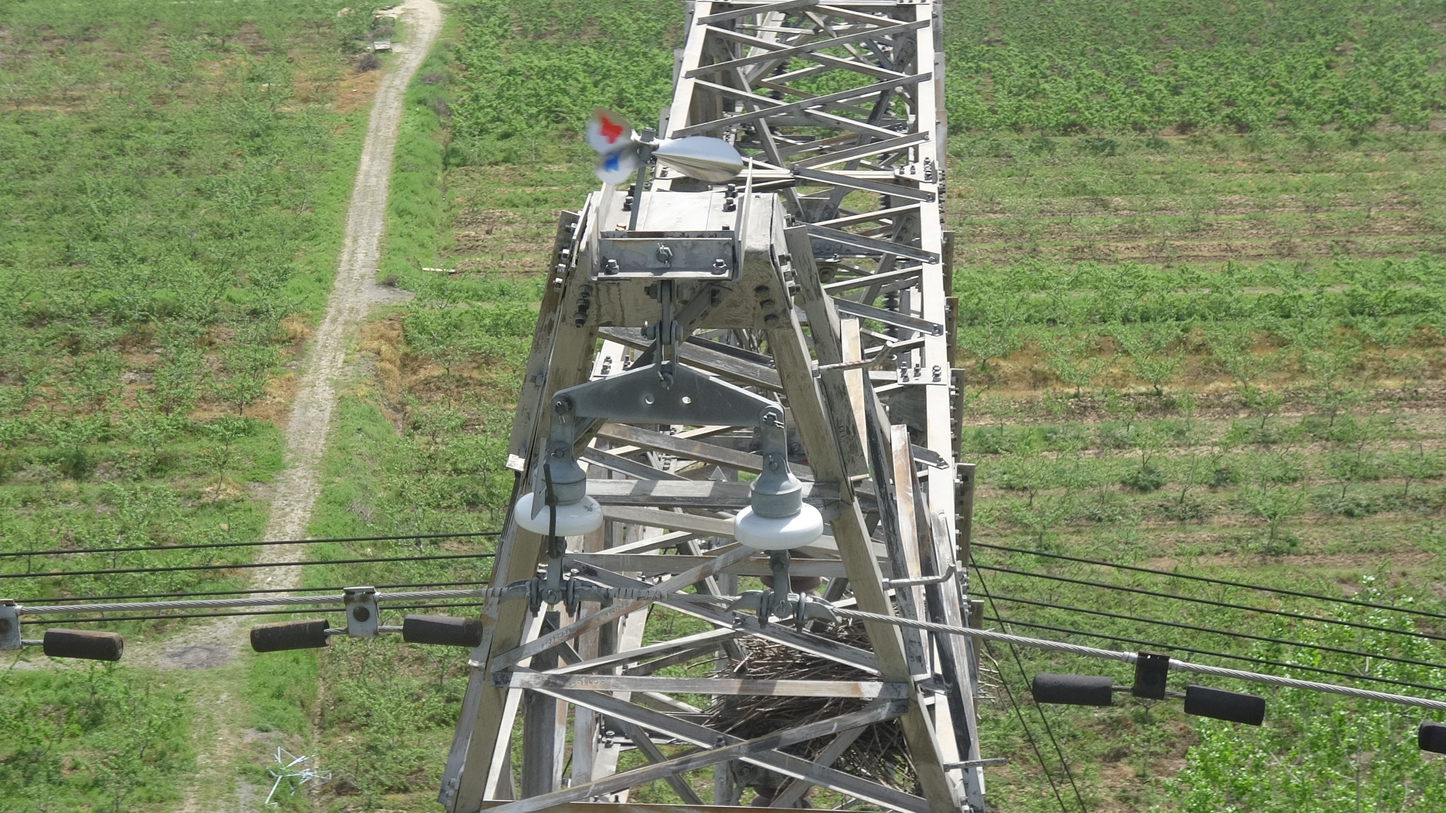damper_defect: (1026, 645, 1272, 731), (246, 580, 486, 659), (0, 590, 129, 665)
